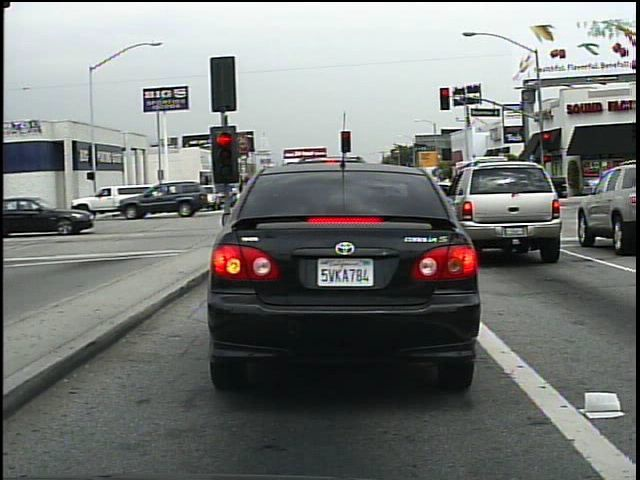person: (172, 177, 195, 216)
